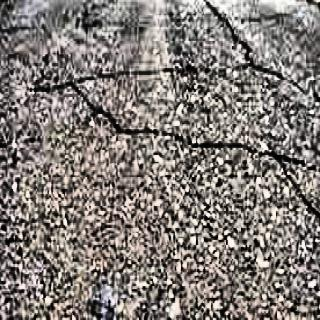crack: (33, 63, 320, 213), (202, 0, 263, 58)
